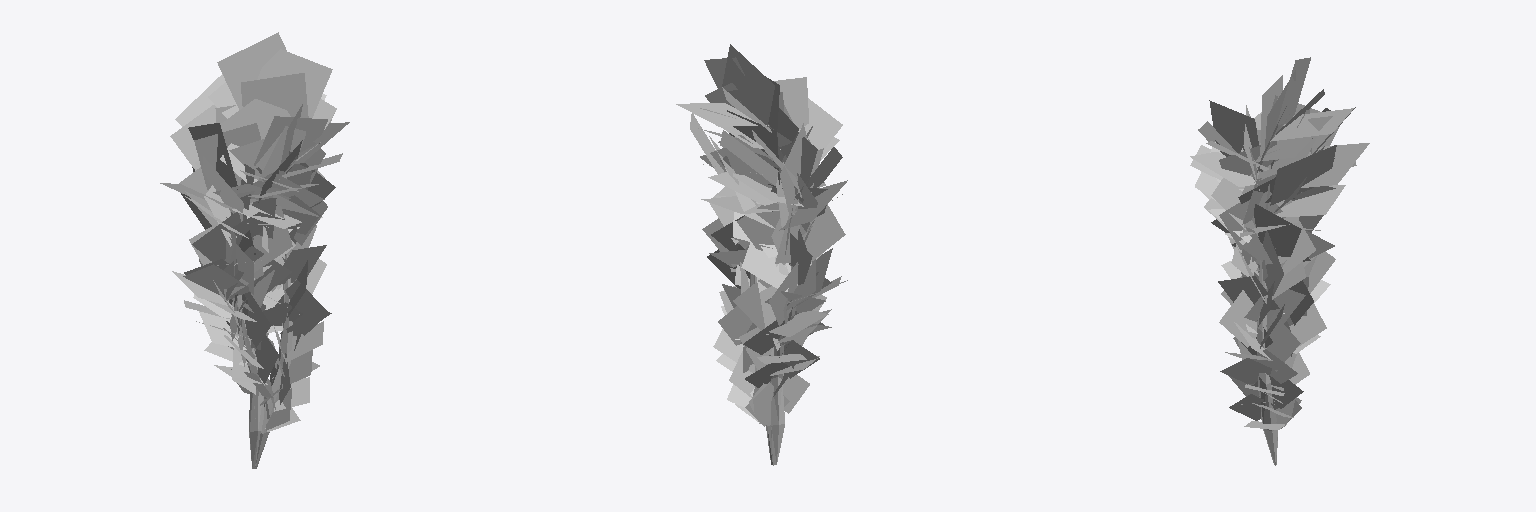
The model's file is wood2.obj.
The picture shows the model from 3 angles: view 1: azimuth 30°, elevation 25°; view 2: azimuth 150°, elevation 25°; view 3: azimuth 270°, elevation 25°; orthographic projection.
Parts seen in each view (by area): view 1: tree; view 2: tree; view 3: tree.
Boxes of the visible parts, x1,y1,x2,y2 form: tree: [160, 32, 349, 468]; tree: [676, 44, 847, 465]; tree: [1190, 57, 1369, 465].
Bounding box in the file's own units: 2.59 × 6.67 × 2.6.